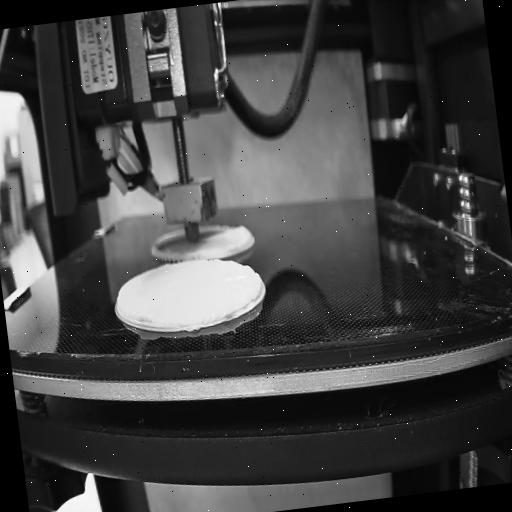over_extrusion: (117, 294, 154, 330), (242, 261, 266, 304)
